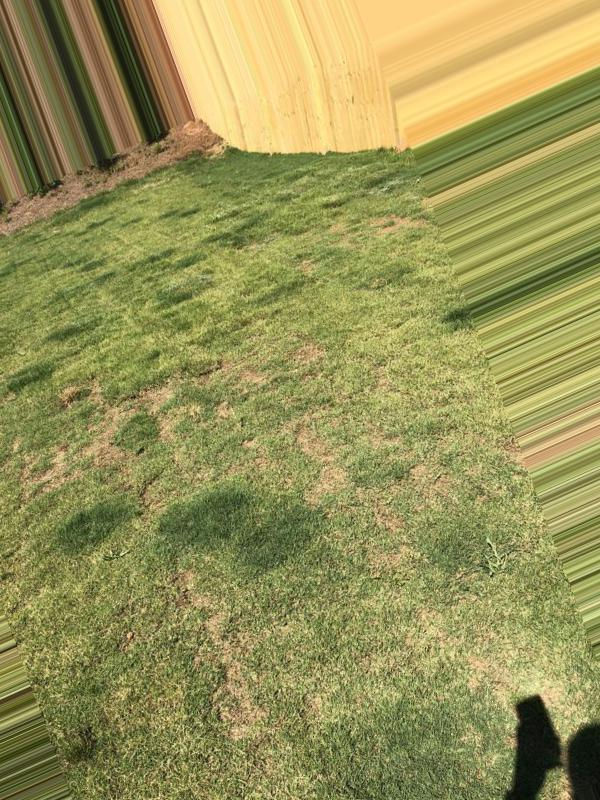patch: (255, 421, 404, 524), (430, 614, 544, 718), (175, 577, 244, 723), (39, 430, 144, 487), (134, 390, 206, 427), (343, 209, 420, 242), (160, 133, 198, 152), (55, 180, 100, 196), (111, 157, 144, 173), (8, 190, 32, 210)
